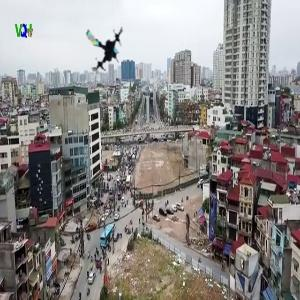drone: (77, 17, 134, 74)
